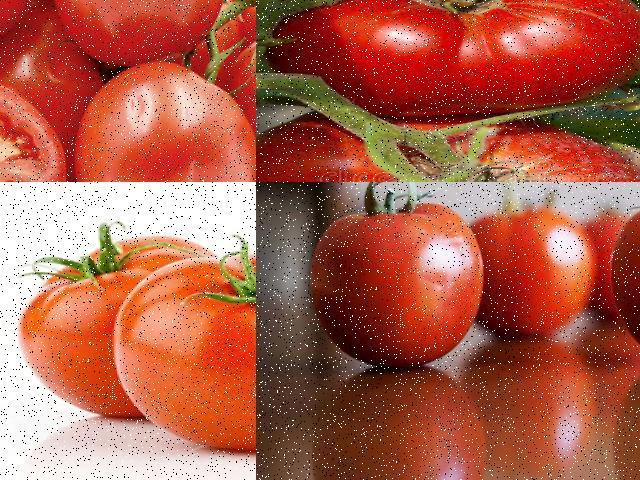tomato: (2, 223, 240, 436), (278, 0, 639, 113), (298, 202, 494, 368), (107, 249, 255, 465), (256, 117, 639, 181), (65, 67, 255, 181), (472, 209, 602, 346), (0, 4, 99, 177), (52, 0, 230, 65)
